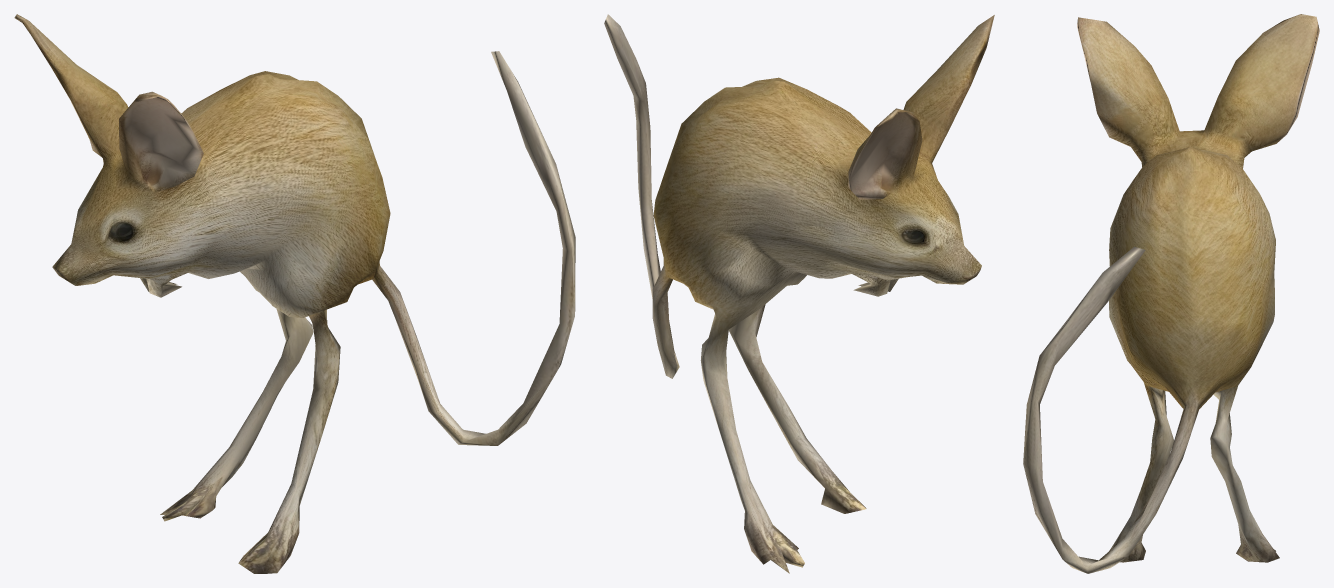
Rendered from tripo_convert_f36b0f4e-7b65-4d58-99e1-f3253adea533.fbx.
The picture shows the model from 3 angles, left to right: view 1: azimuth 30°, elevation 25°; view 2: azimuth 150°, elevation 25°; view 3: azimuth 270°, elevation 25°; orthographic projection. The views are drawn at different scales.
Parts seen in each view (by area): view 1: tripo_node_f36b0f4e; view 2: tripo_node_f36b0f4e; view 3: tripo_node_f36b0f4e.
Part boxes in pixels (bbox=[...]): tripo_node_f36b0f4e: bbox=[14, 14, 575, 573]; tripo_node_f36b0f4e: bbox=[604, 14, 994, 573]; tripo_node_f36b0f4e: bbox=[1023, 14, 1319, 573].
Bounding box in the file's own units: 0.8528 × 0.9779 × 0.5405.
Materials: 1 (1 with a texture image).
